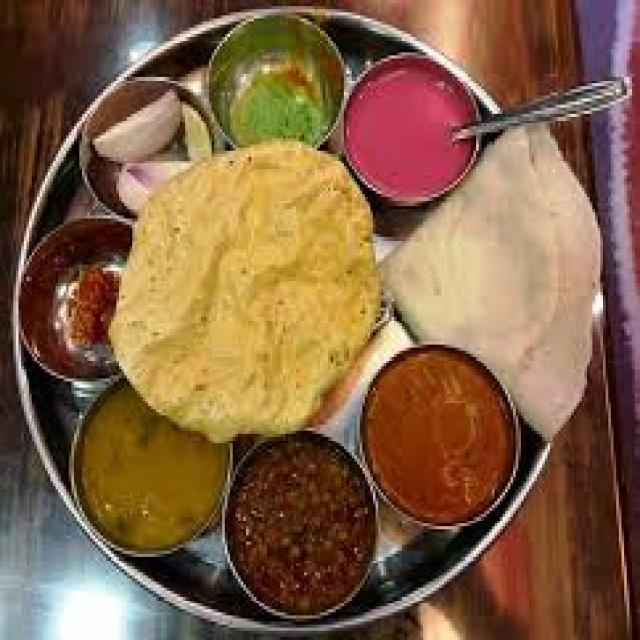RICE BHAKRI: (384, 124, 607, 436)
